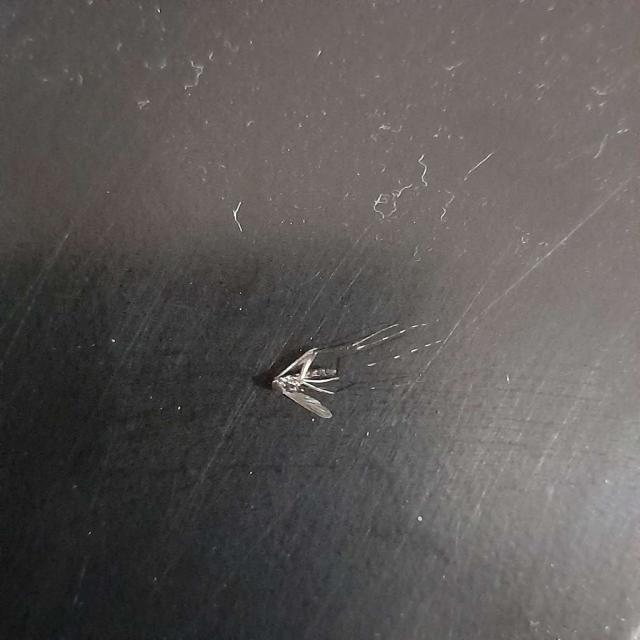albopictus: (256, 313, 448, 434)
